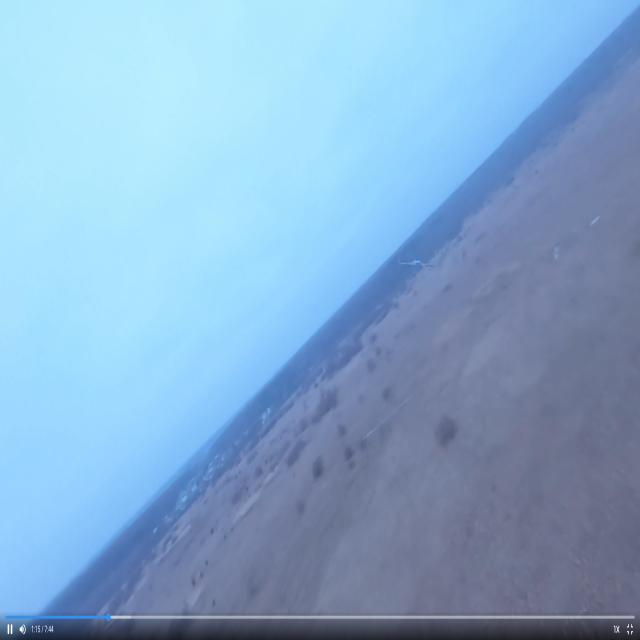planedrone: (392, 247, 444, 284)
